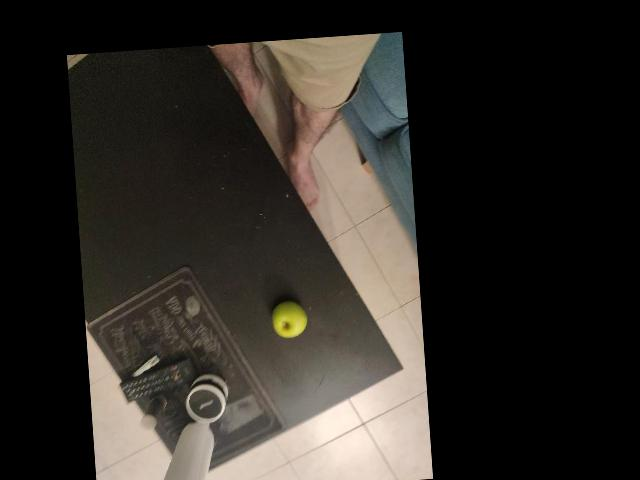apple: (249, 269, 309, 344)
